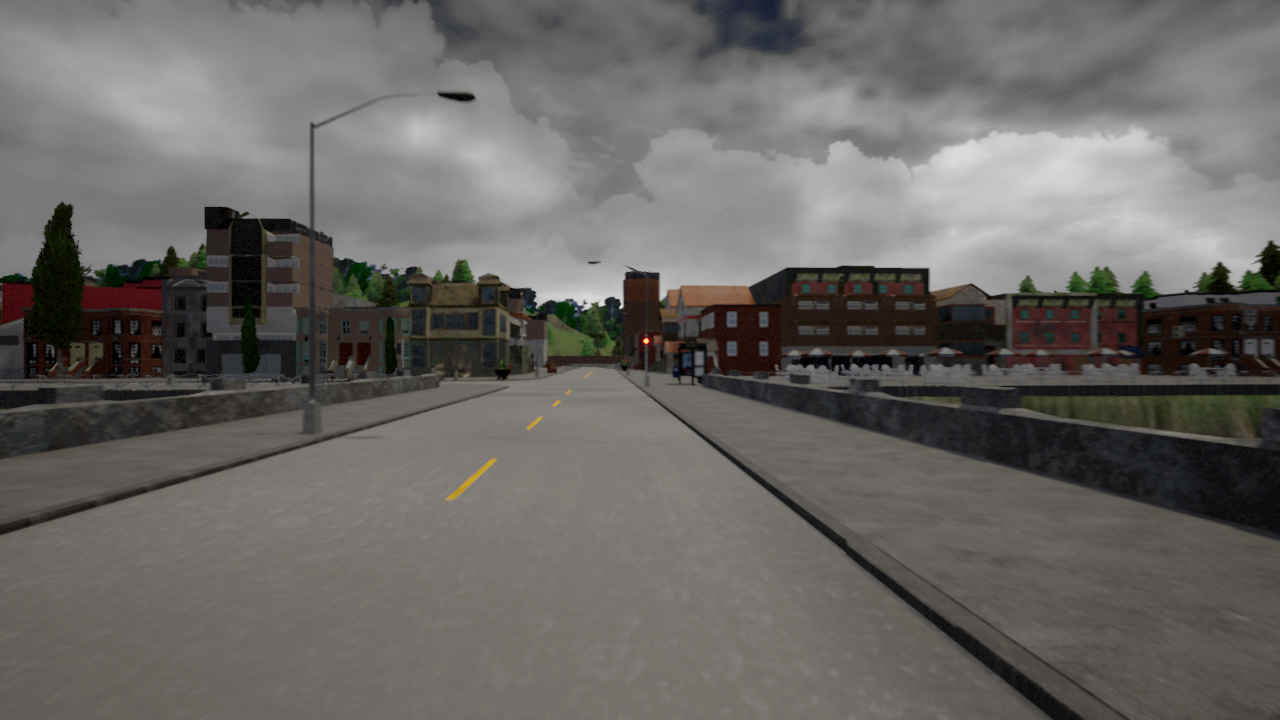red: (642, 337, 649, 353)
